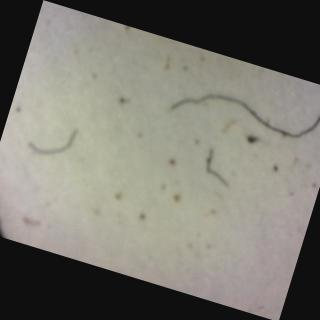Microplastic: (157, 45, 320, 166), (17, 112, 86, 174), (192, 143, 238, 194)
